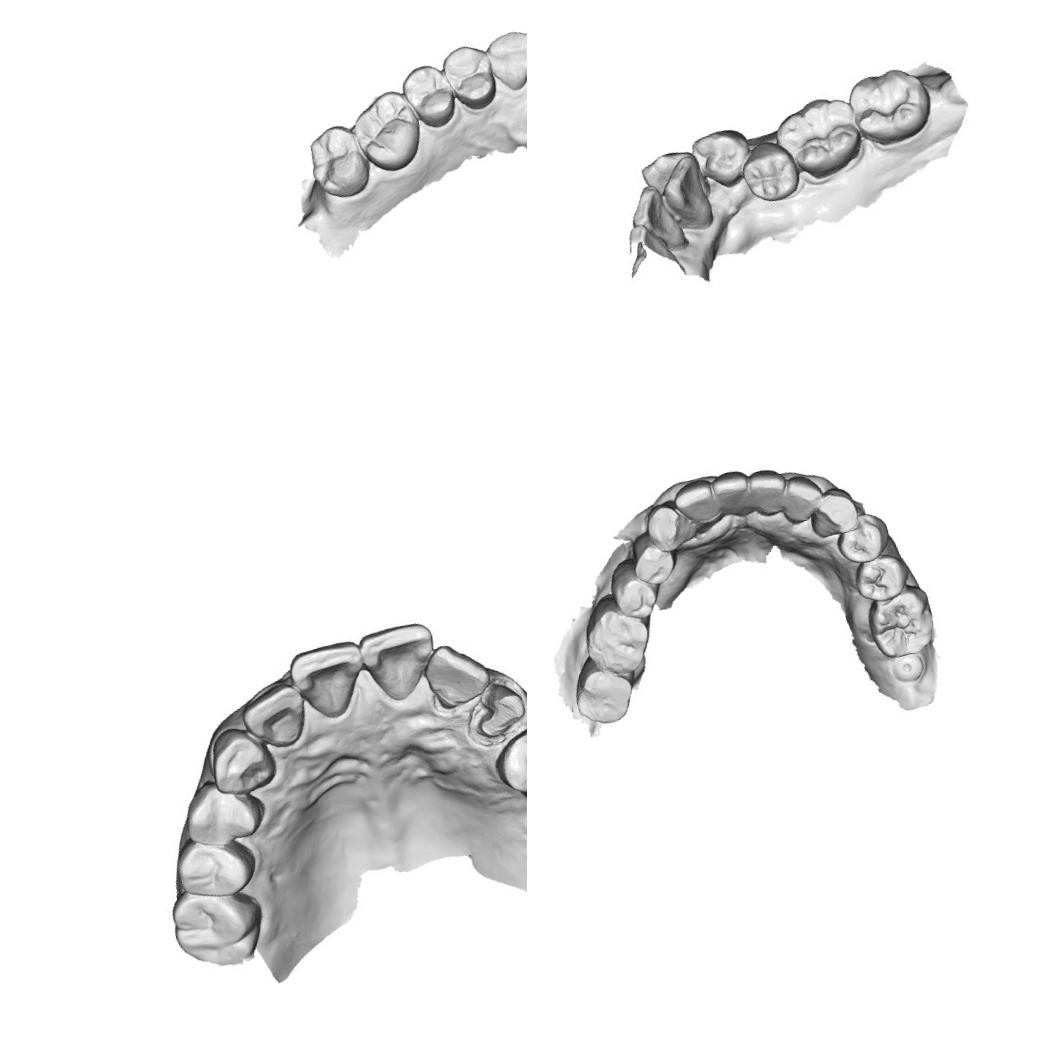canine: (202, 717, 279, 800), (802, 480, 864, 542), (639, 496, 699, 556), (481, 24, 527, 97)
crown: (460, 675, 527, 749)
implant: (886, 649, 928, 686)
incisor: (290, 633, 378, 729), (356, 616, 444, 708), (414, 633, 499, 722), (237, 678, 316, 757), (662, 151, 722, 235), (632, 186, 693, 258), (772, 468, 830, 529), (669, 474, 724, 532), (743, 464, 794, 520), (708, 465, 757, 522)
molar: (165, 876, 276, 982), (770, 90, 868, 182), (574, 584, 662, 686), (343, 83, 430, 180), (845, 61, 934, 147), (171, 827, 263, 906), (860, 580, 941, 662), (563, 646, 640, 731), (300, 117, 374, 205)
premolar: (174, 768, 268, 853), (436, 38, 502, 116), (396, 57, 461, 134), (602, 550, 662, 622), (847, 547, 915, 608), (829, 506, 895, 568), (740, 137, 799, 205), (623, 524, 681, 589), (693, 124, 752, 185), (490, 717, 527, 801)
